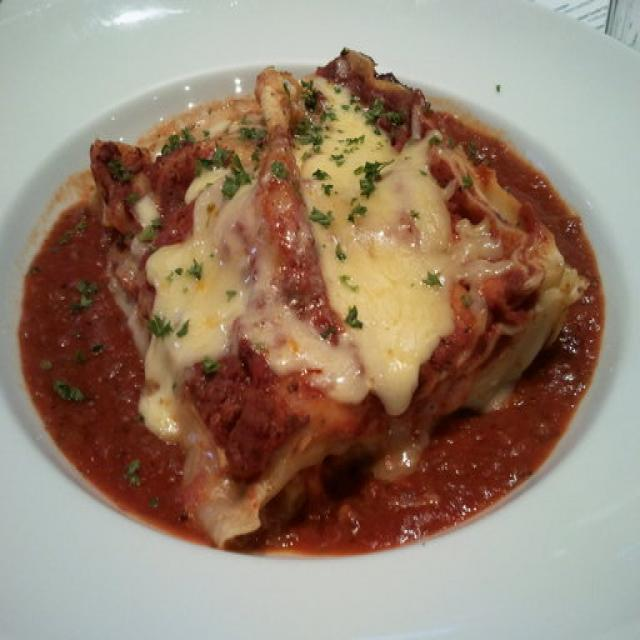Lasagna: (97, 67, 573, 495)
